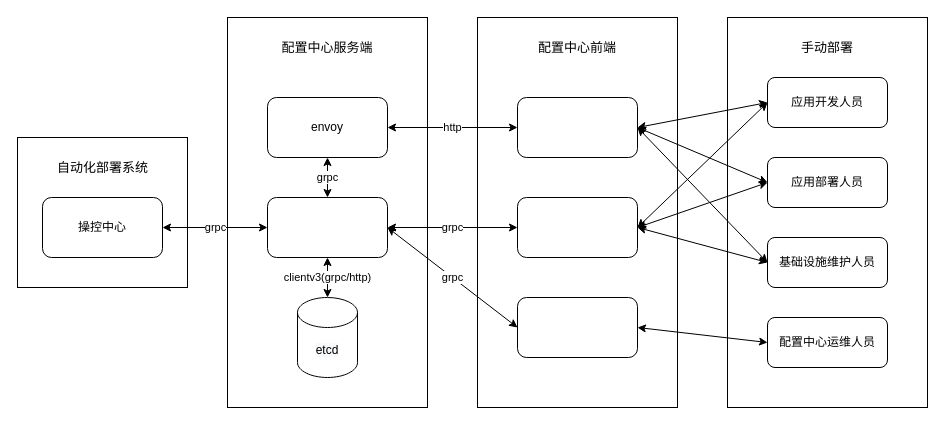
Some shapes in this 945 by 425 pixel diagram are drawn without their labels. Each missing label, with the centre of its shape:
"客户端命令行工具 cfgtool" belongs at pixel 577 227.
"服务端命令行工具 cfgsrv" belongs at pixel 577 327.
"配置服务" belongs at pixel 327 227.
"配置端（网页端）" belongs at pixel 577 127.
